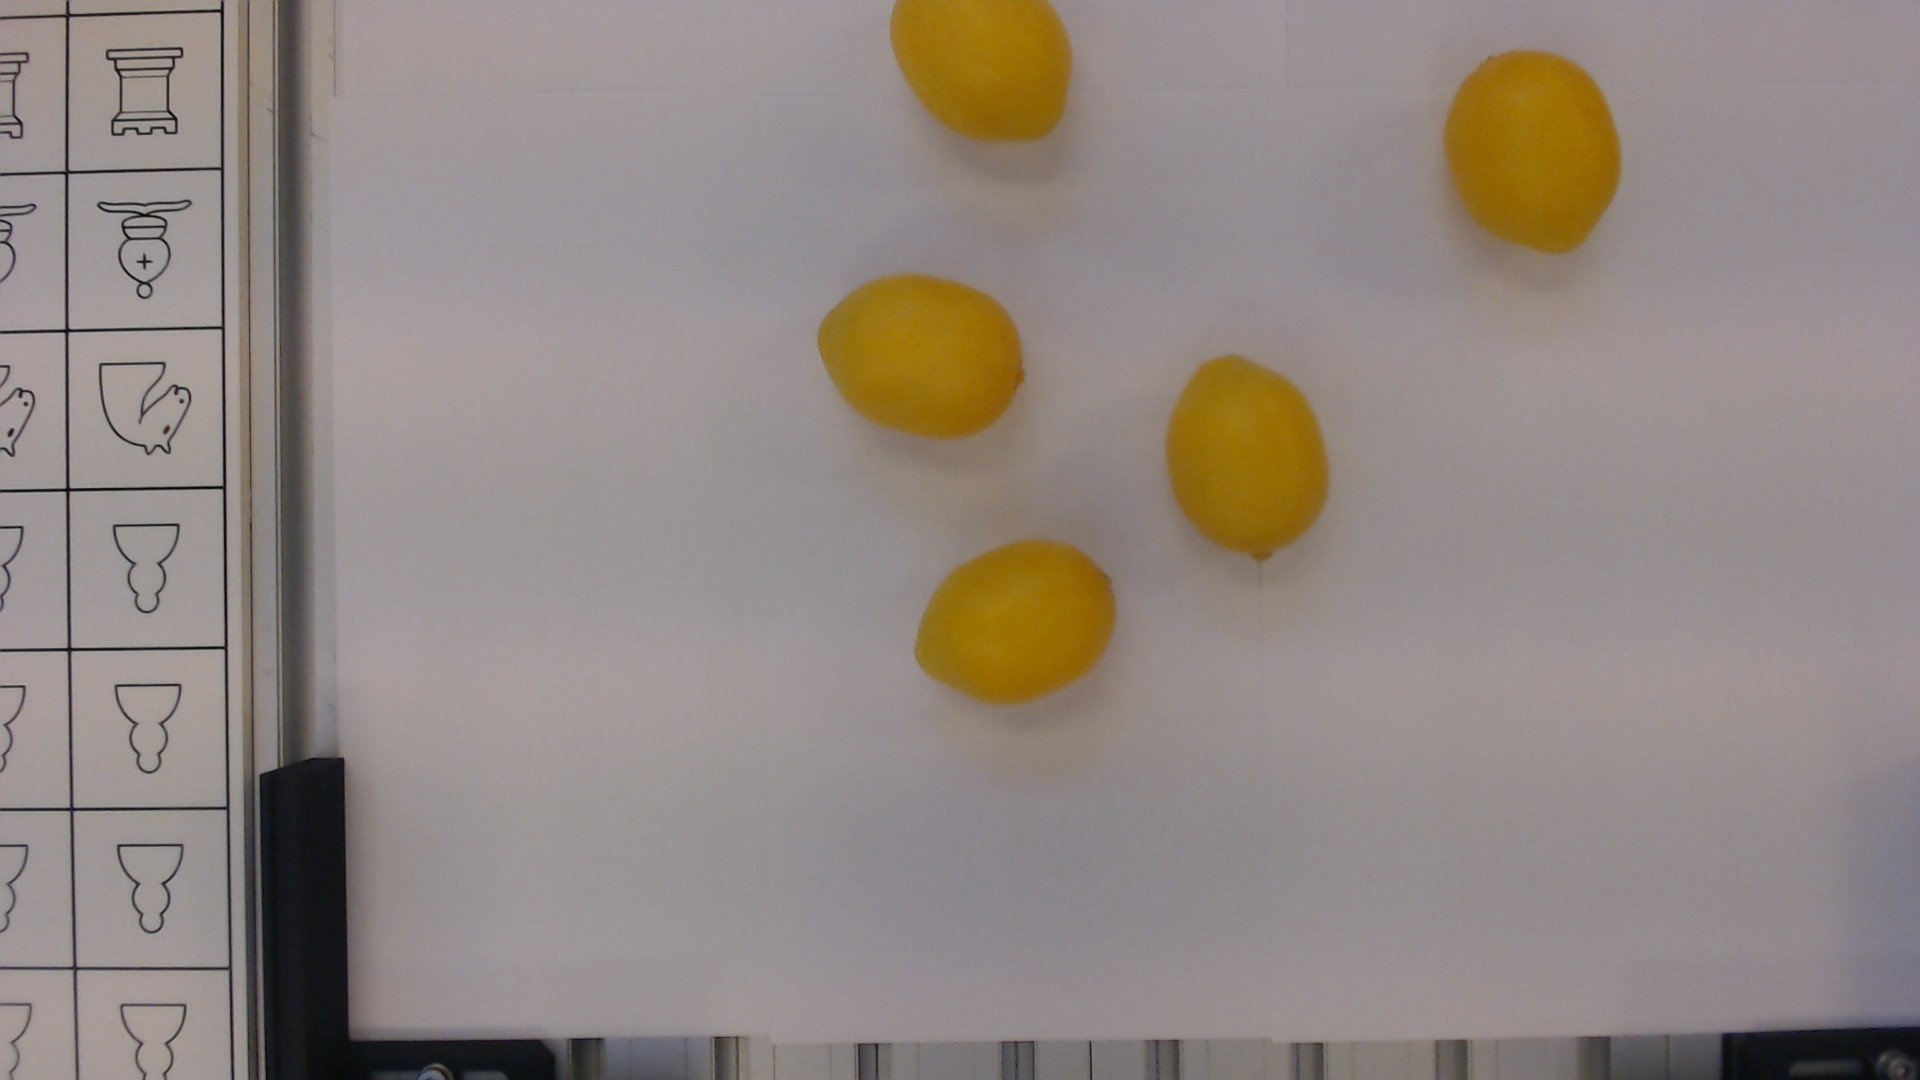Lemon: (803, 276, 1038, 442), (1440, 44, 1625, 255), (1164, 351, 1332, 564), (905, 542, 1121, 705), (876, 3, 1075, 142)
